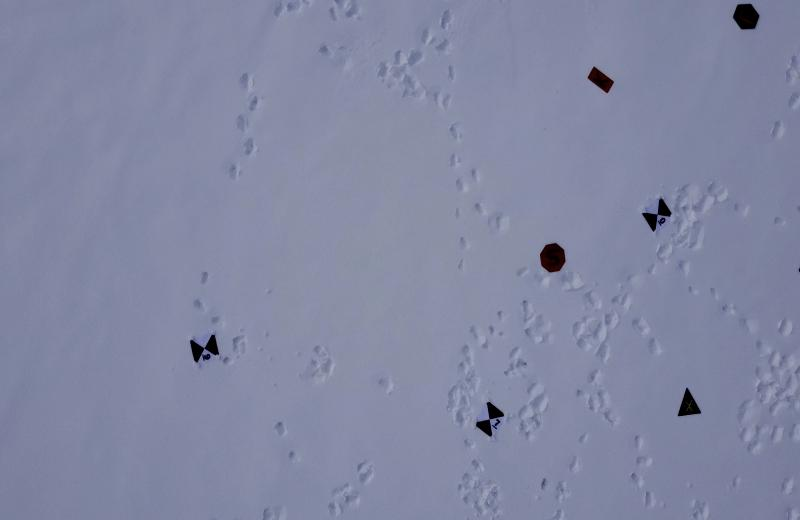Hexagon: (732, 3, 759, 33)
Octagon: (539, 240, 568, 276)
Rectangle: (587, 64, 613, 96)
Triangle: (677, 386, 702, 420)
